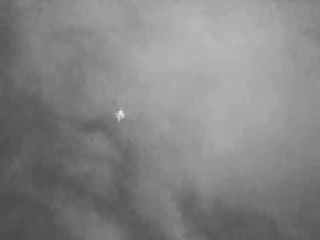Target: (118, 112, 124, 120)
